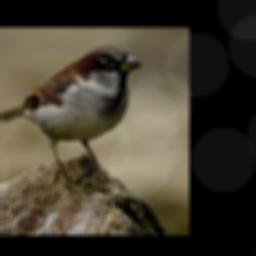Sparrow: (0, 46, 143, 184)
